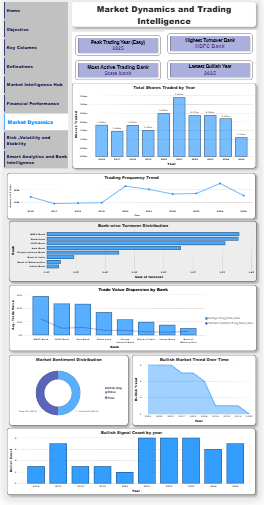

Layout of this report page (visuals, bound fields, positions):
{"tool":"powerbi","page":{"name":"Market Dynamics","canvas":[1280,2503],"ordinal":6},"visuals":[{"type":"textbox","title":"Market Dynamics and Trading Intelligence","box":[341.7,16.7,920,123.3],"z":0},{"type":"clusteredColumnChart","title":"Total Shares Traded by Year","fields":{"Category":["cleaned_bank_stocks_10years.year"],"Y":["Sum(cleaned_bank_stocks_10years.shares_traded)"]},"box":[338,420,920,426],"z":1000},{"type":"lineChart","title":"Trading Frequency Trend","fields":{"Category":["cleaned_bank_stocks_10years.year"],"Y":["Sum(cleaned_bank_stocks_10years.trades)"]},"box":[16,868,1242,230],"z":2000},{"type":"clusteredBarChart","title":"Bank-wise Turnover Distribution","fields":{"Category":["cleaned_bank_stocks_10years.bank"],"Y":["Sum(cleaned_bank_stocks_10years.turnover)"]},"box":[24,1112,1238,302],"z":3000},{"type":"lineStackedColumnComboChart","title":"Trade Value Dispersion by Bank","fields":{"Category":["cleaned_bank_stocks_10years.bank"],"Y":["Avg(cleaned_bank_stocks_10years.avg_trade_value)"],"Y2":["Sum(cleaned_bank_stocks_10years.avg_trade_value)1"]},"box":[24,1428,1238,330],"z":4000},{"type":"clusteredColumnChart","title":"Bullish Signal Count by year","fields":{"Category":["cleaned_bank_stocks_10years.year"],"Y":["cleaned_bank_stocks_10years.Bullish Count"]},"box":[16,2146,1242,334],"z":5000},{"type":"donutChart","title":"Market Sentiment Distribution","fields":{"Category":["cleaned_bank_stocks_10years.bullish_flag"],"Y":["cleaned_bank_stocks_10years.Bullish Count"]},"box":[24,1778,596,352],"z":6000},{"type":"lineChart","title":"Bullish Market Trend Over Time","fields":{"Category":["cleaned_bank_stocks_10years.year"],"Y":["cleaned_bank_stocks_10years.Bullish Trend"]},"box":[640,1778,620,352],"z":7000},{"type":"cardVisual","fields":{"Data":["cleaned_bank_stocks_10years.Peak Trading Year (Easy)"]},"box":[801.7,173.3,335,115],"z":8000},{"type":"cardVisual","fields":{"Data":["Min(cleaned_bank_stocks_10years.bank)"]},"box":[798.3,153.3,460,135],"z":9000},{"type":"cardVisual","fields":{"Data":["Min(cleaned_bank_stocks_10years.bank)"]},"box":[338,288,460,132],"z":10000},{"type":"cardVisual","fields":{"Data":["Min(cleaned_bank_stocks_10years.year)"]},"box":[798,288,460,132],"z":11000},{"type":"pageNavigator","box":[0,15,320,831.7],"z":12000},{"type":"cardVisual","fields":{"Data":["cleaned_bank_stocks_10years.Peak Trading Year (Easy)"]},"box":[341.7,163.3,460,135],"z":13000}]}

Visuals, with their boxes in screenshot pixels (x1, y1, x2, y2), scaled from the page's 1280x2503 canvas onto the 264x505 screenshot:
"Market Dynamics and Trading Intelligence" textbox: [70,3,260,28]
"Total Shares Traded by Year" clusteredColumnChart: [70,85,259,171]
"Trading Frequency Trend" lineChart: [3,175,259,222]
"Bank-wise Turnover Distribution" clusteredBarChart: [5,224,260,285]
"Trade Value Dispersion by Bank" lineStackedColumnComboChart: [5,288,260,355]
"Bullish Signal Count by year" clusteredColumnChart: [3,433,259,500]
"Market Sentiment Distribution" donutChart: [5,359,128,430]
"Bullish Market Trend Over Time" lineChart: [132,359,260,430]
cardVisual - cleaned_bank_stocks_10years.Peak Trading Year (Easy): [165,35,234,58]
cardVisual - Min(cleaned_bank_stocks_10years.bank): [165,31,260,58]
cardVisual - Min(cleaned_bank_stocks_10years.bank): [70,58,165,85]
cardVisual - Min(cleaned_bank_stocks_10years.year): [165,58,259,85]
pageNavigator: [0,3,66,171]
cardVisual - cleaned_bank_stocks_10years.Peak Trading Year (Easy): [70,33,165,60]
